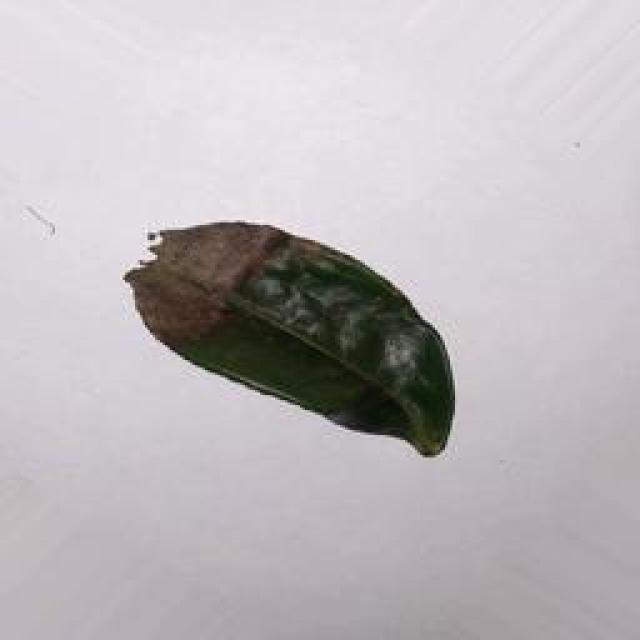Brown Blight: (118, 214, 475, 467)
